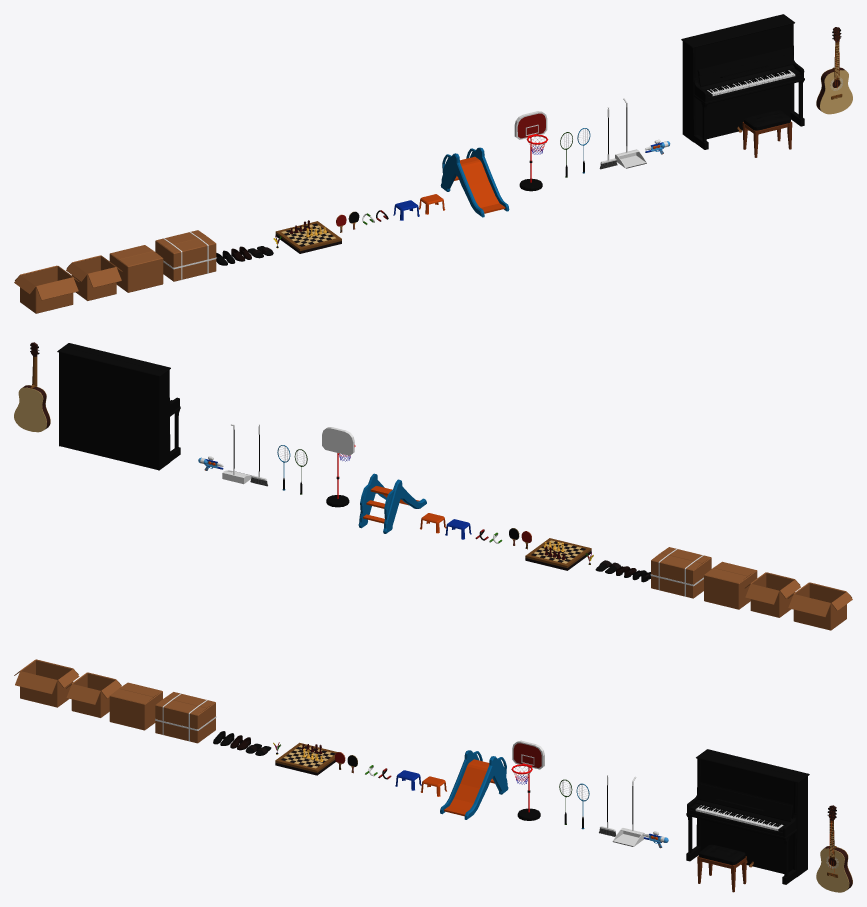
The model's file is FreeProps.fbx.
3 views of the same model, one above another, from view 1: azimuth 30°, elevation 25°; view 2: azimuth 150°, elevation 25°; view 3: azimuth 330°, elevation 25° (orthographic).
Visible parts, largest first — view 1: props_148, props_141, props_125, props_122, props_124, props_123, props_150, props_142, props_130, props_149; view 2: props_148, props_125, props_122, props_124, props_141, props_123, props_150, props_130, props_142; view 3: props_148, props_141, props_125, props_122, props_124, props_123, props_150, props_142, props_130, props_149, props_146.
Part boxes in pixels (x1,y1,x2,y2): props_148: (681, 14, 804, 149); props_141: (440, 147, 509, 217); props_125: (155, 230, 216, 281); props_122: (14, 265, 79, 313); props_124: (109, 245, 163, 292); props_123: (66, 255, 122, 300); props_150: (816, 27, 852, 114); props_142: (514, 111, 548, 191); props_130: (275, 221, 341, 253); props_149: (742, 110, 792, 157); props_148: (57, 343, 180, 470); props_125: (650, 547, 711, 598); props_122: (787, 582, 852, 630); props_124: (704, 561, 757, 609); props_141: (358, 473, 426, 533); props_123: (744, 572, 800, 617); props_150: (14, 342, 50, 432); props_130: (525, 538, 591, 570); props_142: (322, 427, 355, 507); props_148: (686, 749, 809, 884); props_141: (440, 750, 508, 819); props_125: (155, 692, 216, 743); props_122: (14, 659, 79, 707); props_124: (109, 682, 162, 730); props_123: (66, 672, 121, 717); props_150: (816, 805, 852, 892); props_142: (511, 740, 544, 820); props_130: (275, 742, 337, 775); props_149: (697, 844, 746, 892); props_146: (612, 776, 644, 846).
Bounding box in the file's own units: 12.03 × 1.24 × 1.36.
